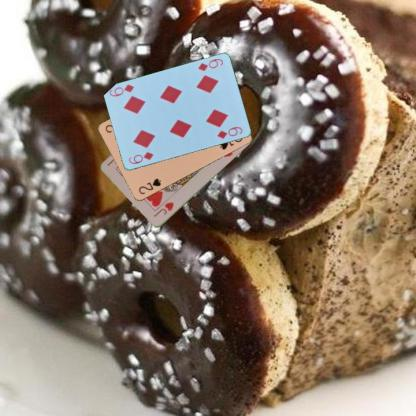2s: (136, 176, 162, 196)
6d: (195, 56, 224, 73), (126, 150, 155, 165)
Jh: (151, 200, 175, 218)
